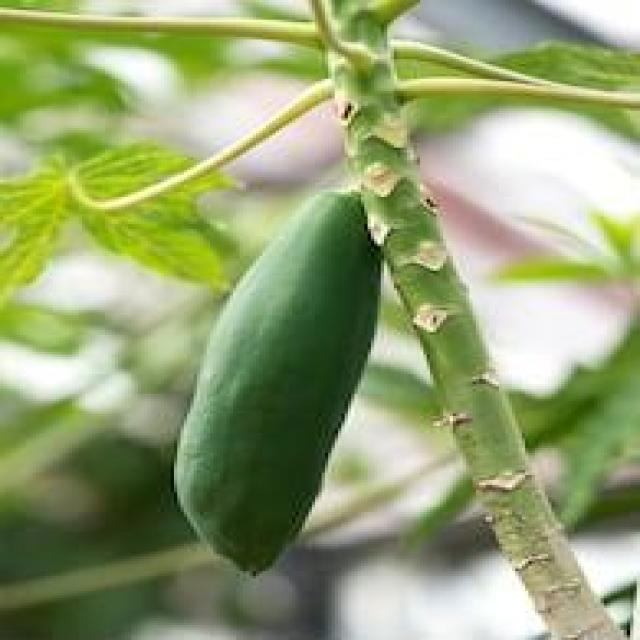Pepaya unrippen: (166, 179, 385, 588)
